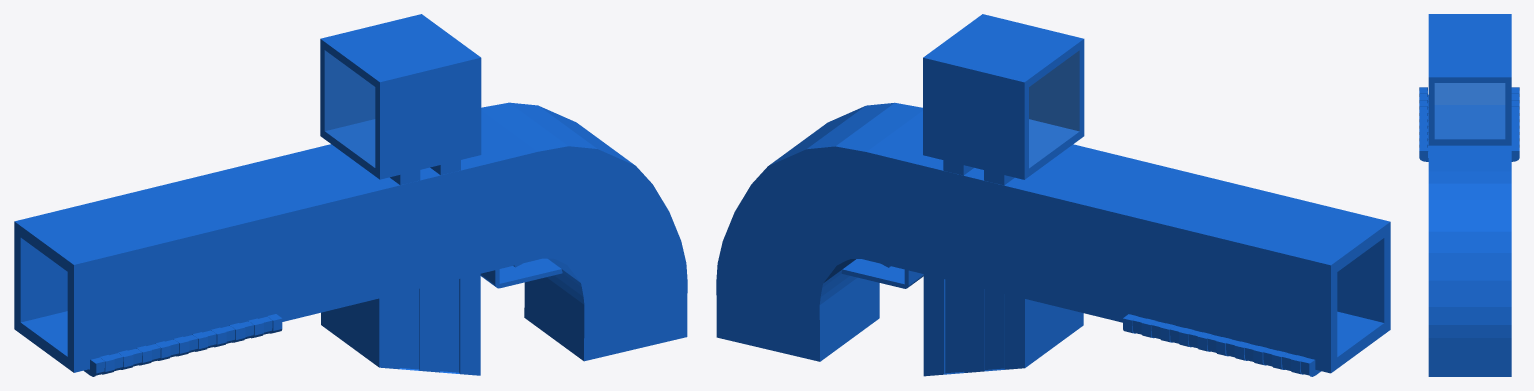
The model's file is shotgun.fbx.
The picture shows the model from 3 angles, left to right: view 1: azimuth 30°, elevation 25°; view 2: azimuth 150°, elevation 25°; view 3: azimuth 270°, elevation 25°; orthographic projection. The views are drawn at different scales.
Visible parts, largest first — view 1: Body, Scope, Mag, Reload hanlde; view 2: Body, Scope, Mag, Reload hanlde; view 3: Body, Scope, Reload hanlde.
Part boxes in pixels (<box>): Body: <box>14,102,687,372</box>; Scope: <box>320,14,481,185</box>; Mag: <box>321,274,480,375</box>; Reload hanlde: <box>84,314,282,376</box>; Body: <box>716,102,1390,373</box>; Scope: <box>923,14,1084,185</box>; Mag: <box>923,274,1083,376</box>; Reload hanlde: <box>1123,314,1321,376</box>; Body: <box>1428,14,1511,376</box>; Scope: <box>1428,42,1511,145</box>; Reload hanlde: <box>1419,87,1519,161</box>.
Size of the model in its own units: 1.5 by 0.7711 by 0.3056.
